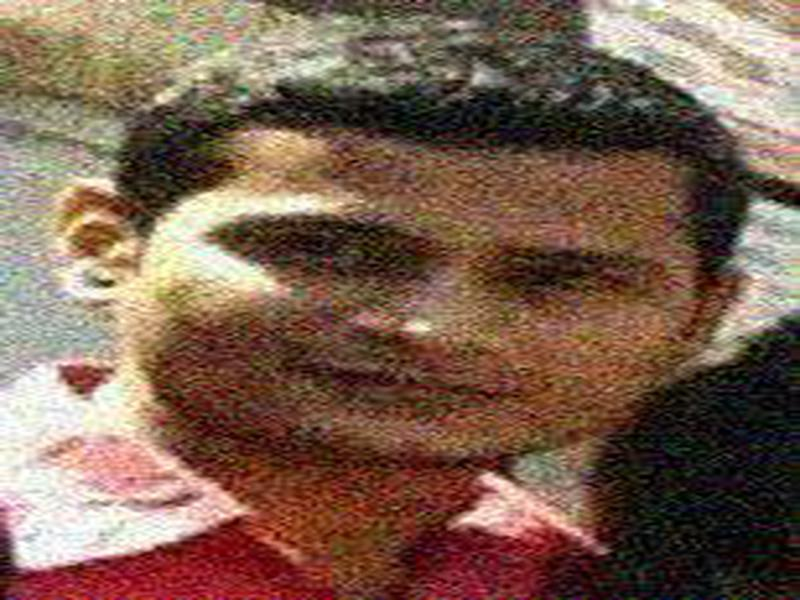without_mask: (140, 133, 689, 465)
